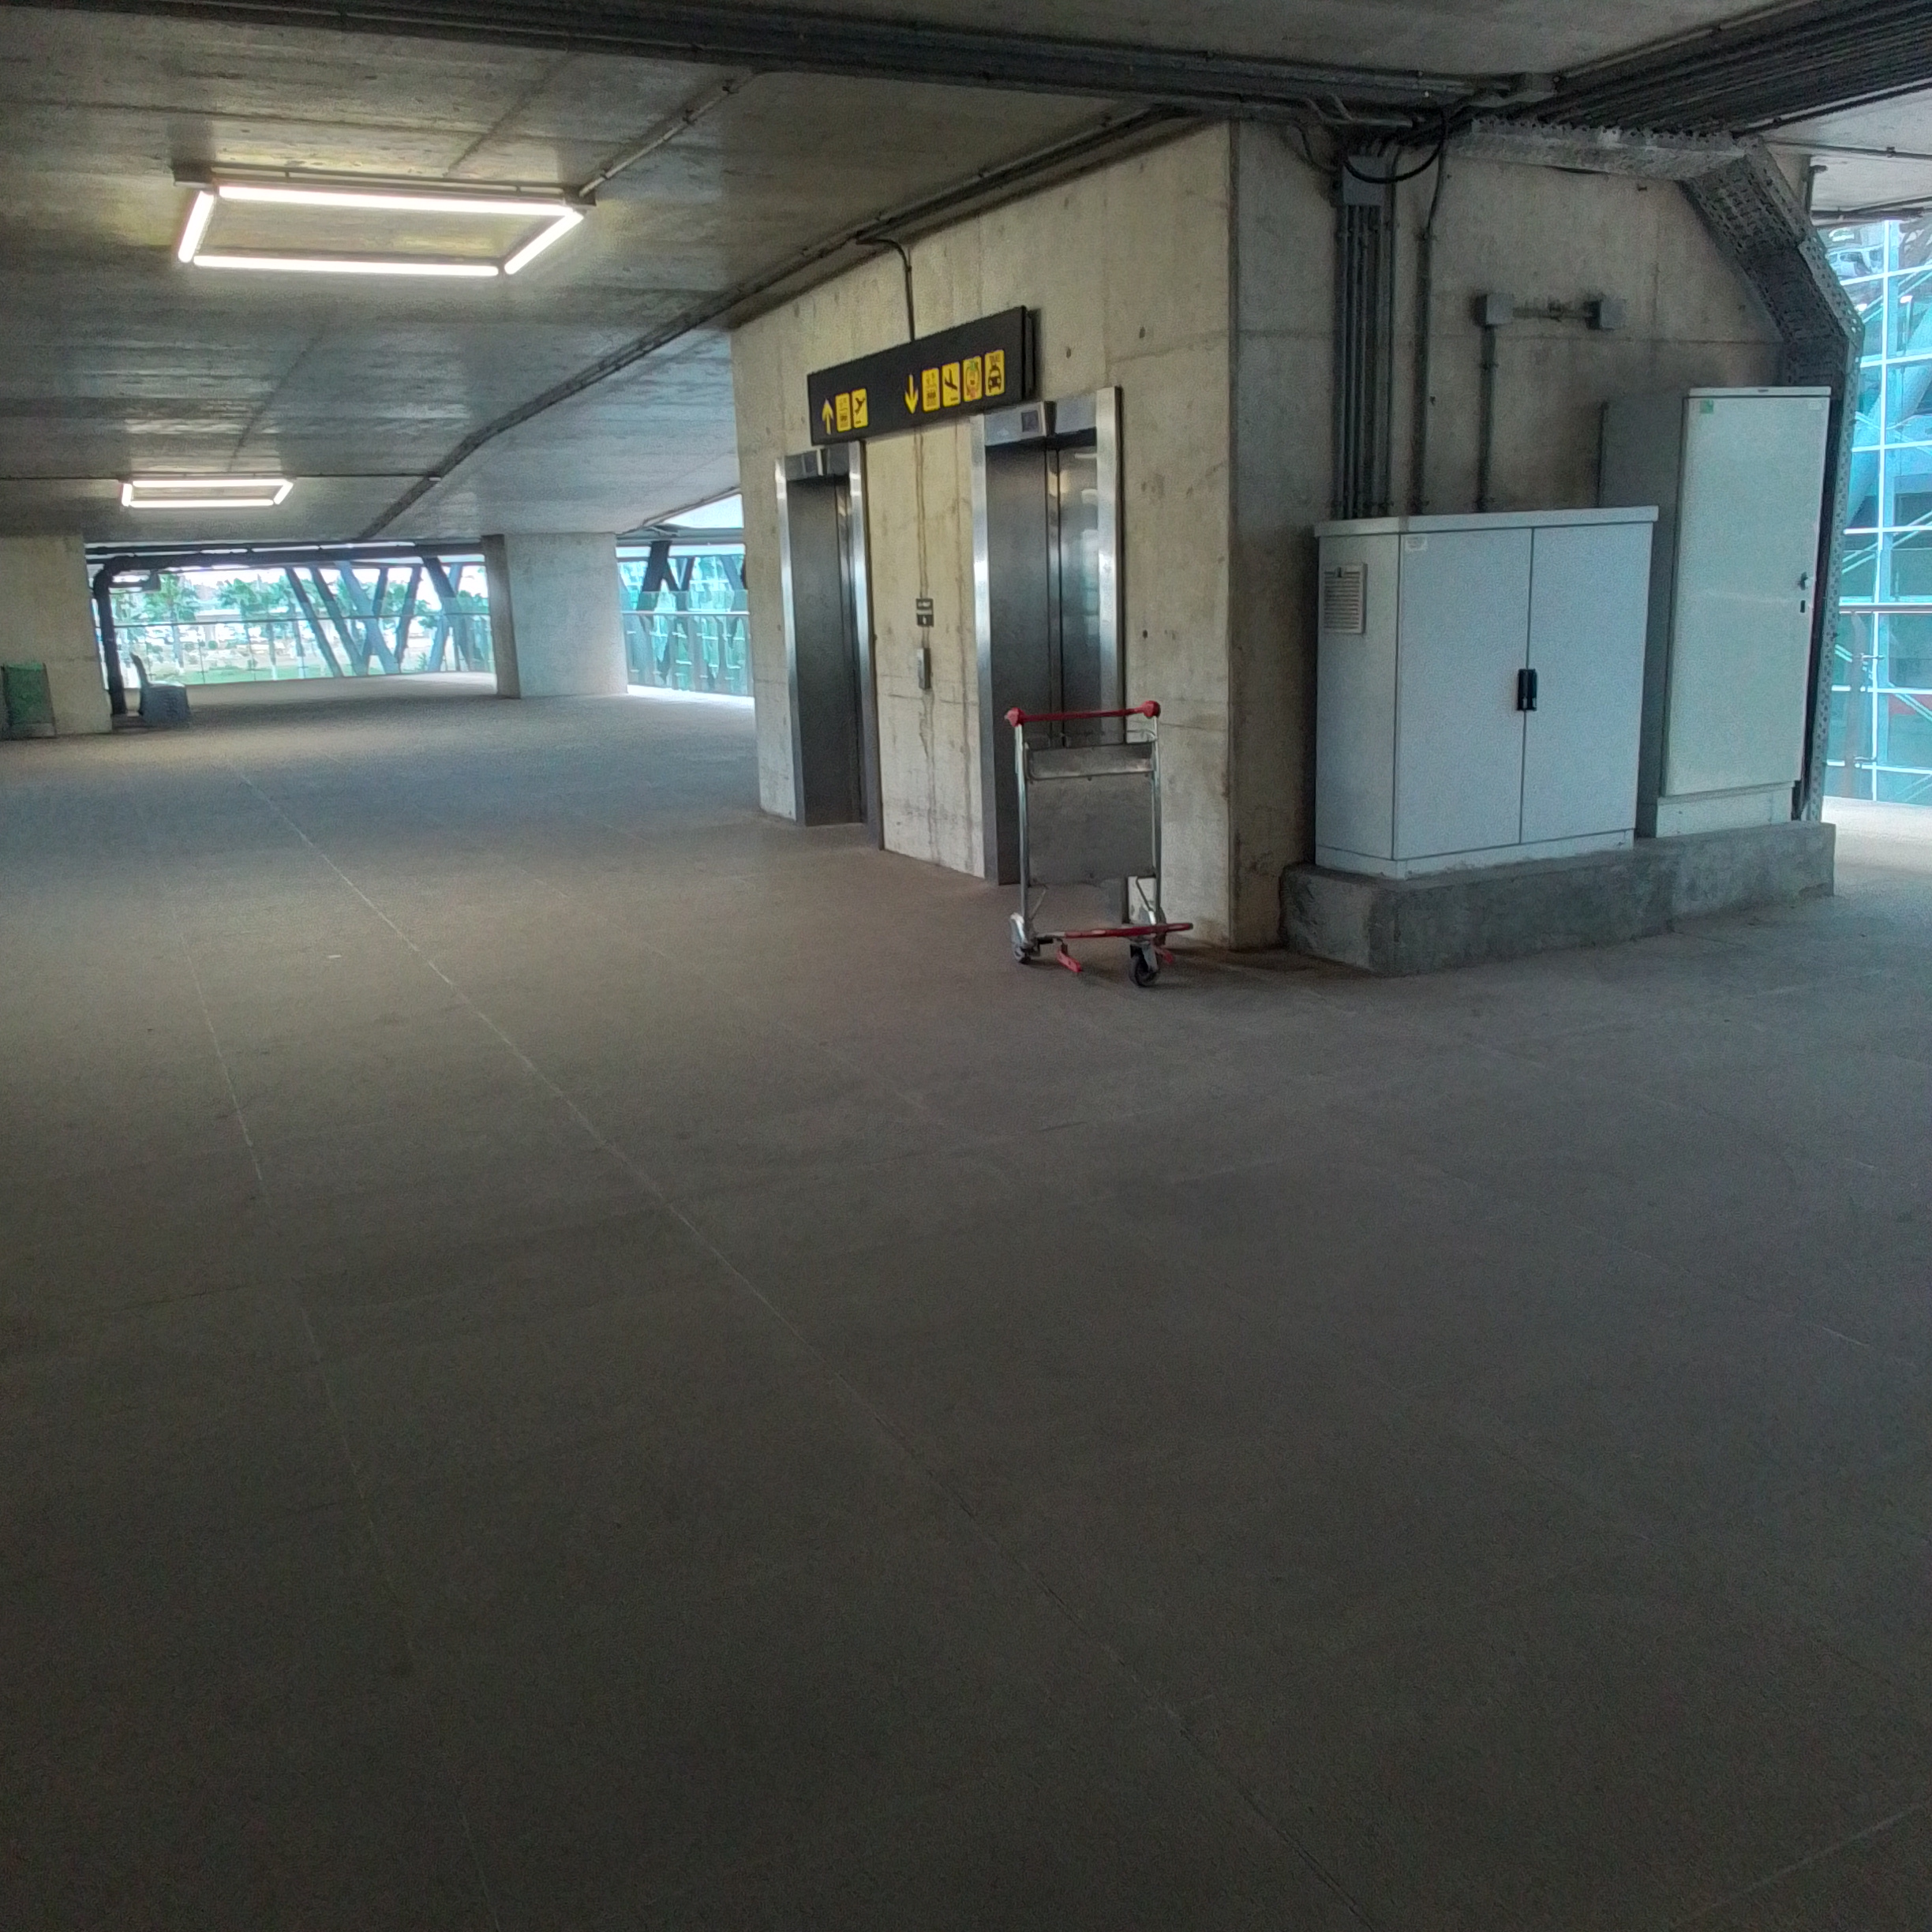airport-trolley: (977, 686, 1192, 994)
